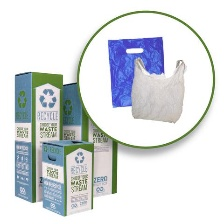plastic_bag: (102, 35, 171, 111), (128, 54, 192, 124)
